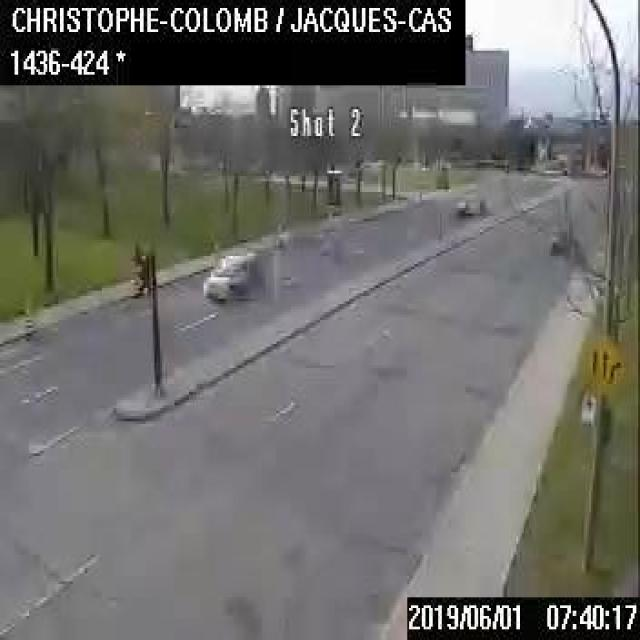construction: (22, 301, 33, 331)
vehicle: (201, 249, 262, 299), (454, 187, 484, 213), (548, 222, 568, 254)
